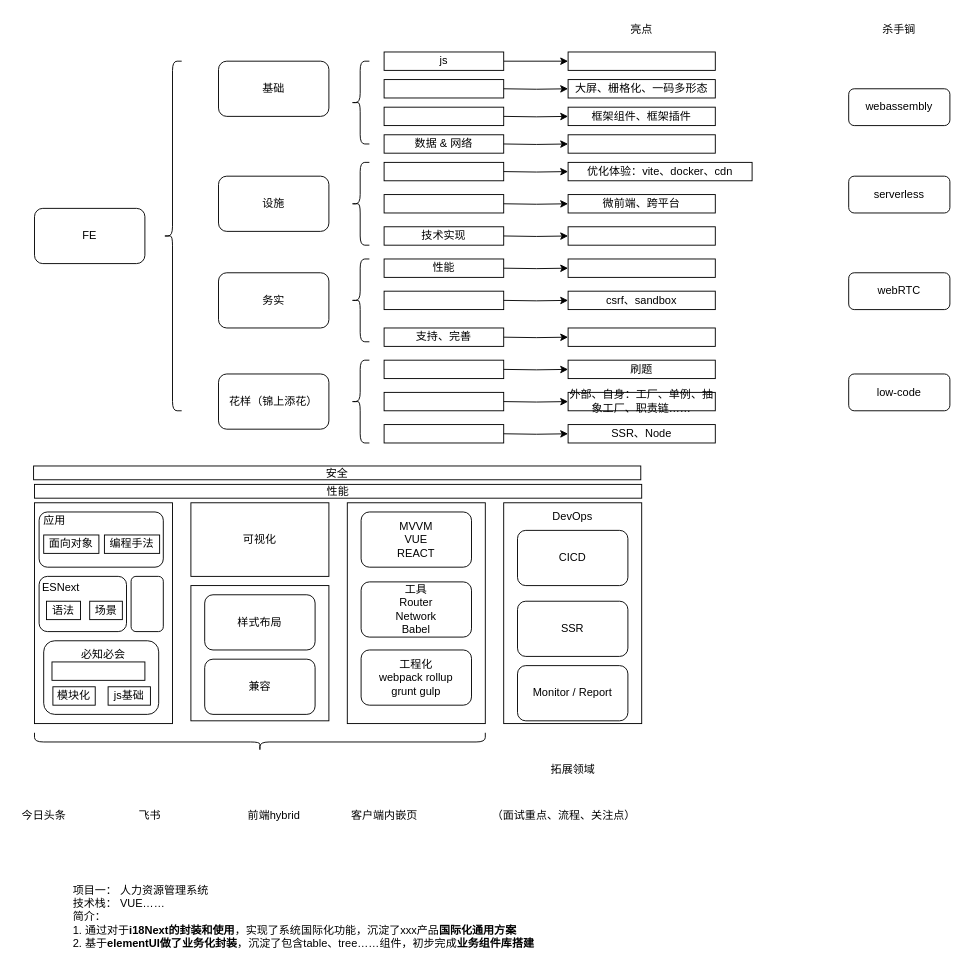
This 966x969 diagram has some shape labels left out. Each missing label, with the box of its shape:
cloudFn: (567, 226, 715, 245)
css: (383, 79, 504, 98)
dev、prod支持: (383, 161, 504, 181)
jsbridge、状态机、网络层: (567, 134, 715, 153)
TS: (130, 575, 163, 632)
全栈: (383, 424, 504, 443)
原型链、继承: (51, 661, 145, 680)
复杂形态: (383, 194, 504, 213)
安全性: (383, 290, 504, 310)
抽象封装、模块化 + 组件化: (567, 51, 715, 70)
日志系统、代码检查规范: (567, 327, 715, 346)
核心: (34, 732, 485, 751)
框架: (383, 106, 504, 126)
渲染、路由、网络: (567, 258, 715, 277)
算法: (383, 359, 504, 379)
设计模式: (383, 391, 504, 411)
